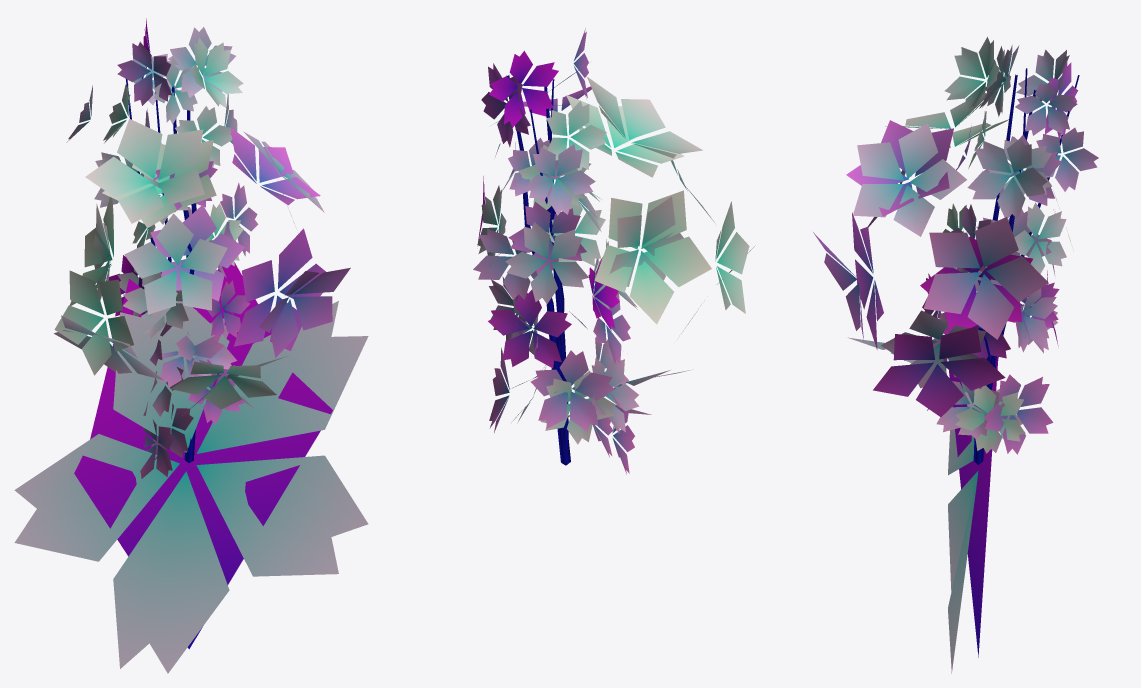
File: sakura-blossoms.glb
The picture shows the model from 3 angles, left to right: view 1: azimuth 30°, elevation 25°; view 2: azimuth 150°, elevation 25°; view 3: azimuth 270°, elevation 25°; orthographic projection. The views are drawn at different scales.
Visible parts, largest first — view 1: flower, blossom_clump_0, blossom_clump_1, petal_far, blossom_spray_0, blossom_spray_1, blossom_strand_1, blossom_strand_0, petal; view 2: blossom_strand_0, blossom_clump_1, blossom_spray_1, blossom_spray_0, blossom_strand_1, blossom_clump_0; view 3: blossom_clump_0, blossom_spray_0, blossom_spray_1, blossom_clump_1, blossom_strand_0, flower, petal_far, blossom_strand_1.
Part boxes in pixels (x1,y1,x2,y2): flower: (14,292,368,673); blossom_clump_0: (54,119,325,415); blossom_clump_1: (54,127,350,409); petal_far: (74,298,332,648); blossom_spray_0: (117,37,250,462); blossom_spray_1: (123,18,258,416); blossom_strand_1: (103,57,226,459); blossom_strand_0: (66,41,254,478); petal: (90,262,271,648); blossom_strand_0: (497,105,634,474); blossom_clump_1: (477,86,749,415); blossom_spray_1: (473,50,637,465); blossom_spray_0: (477,28,639,465); blossom_strand_1: (508,79,615,457); blossom_clump_0: (491,63,754,417); blossom_clump_0: (848,92,1048,416); blossom_spray_0: (922,37,1078,464); blossom_spray_1: (943,45,1077,464); blossom_clump_1: (813,119,1032,388); blossom_strand_0: (933,49,1098,439); flower: (948,267,978,673); petal_far: (949,326,998,657); blossom_strand_1: (958,46,1062,453).
Bounding box in the file's own units: 0.9845 × 1.62 × 0.7282.
